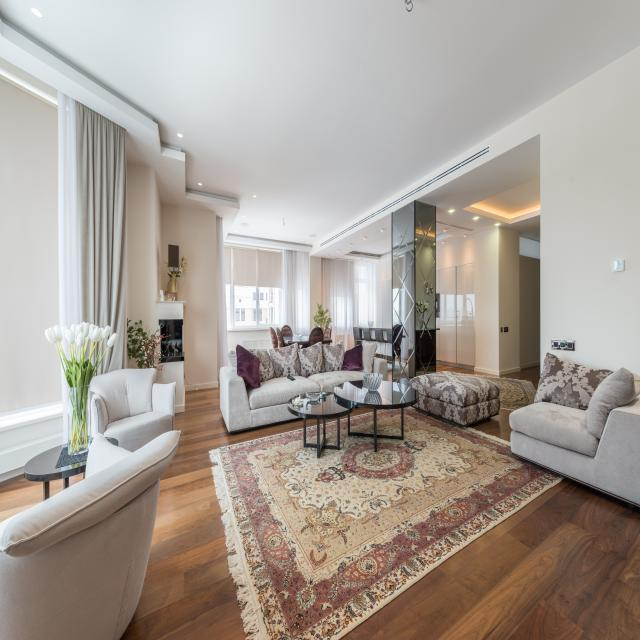floor: (342, 476, 640, 640), (120, 385, 304, 640), (0, 473, 43, 524), (467, 408, 515, 444), (499, 365, 540, 392), (436, 364, 474, 374), (49, 478, 64, 498), (350, 407, 374, 417), (69, 473, 83, 487), (306, 419, 317, 428), (325, 418, 337, 423), (339, 415, 348, 420), (319, 420, 323, 425)
wall: (540, 46, 640, 378), (0, 58, 64, 483), (161, 204, 219, 391), (126, 163, 183, 348), (436, 227, 499, 377), (499, 227, 520, 376), (519, 236, 540, 369), (154, 361, 185, 414), (154, 168, 161, 301), (310, 256, 322, 333), (381, 260, 392, 328), (374, 264, 381, 328), (126, 343, 140, 369), (314, 317, 316, 319)
